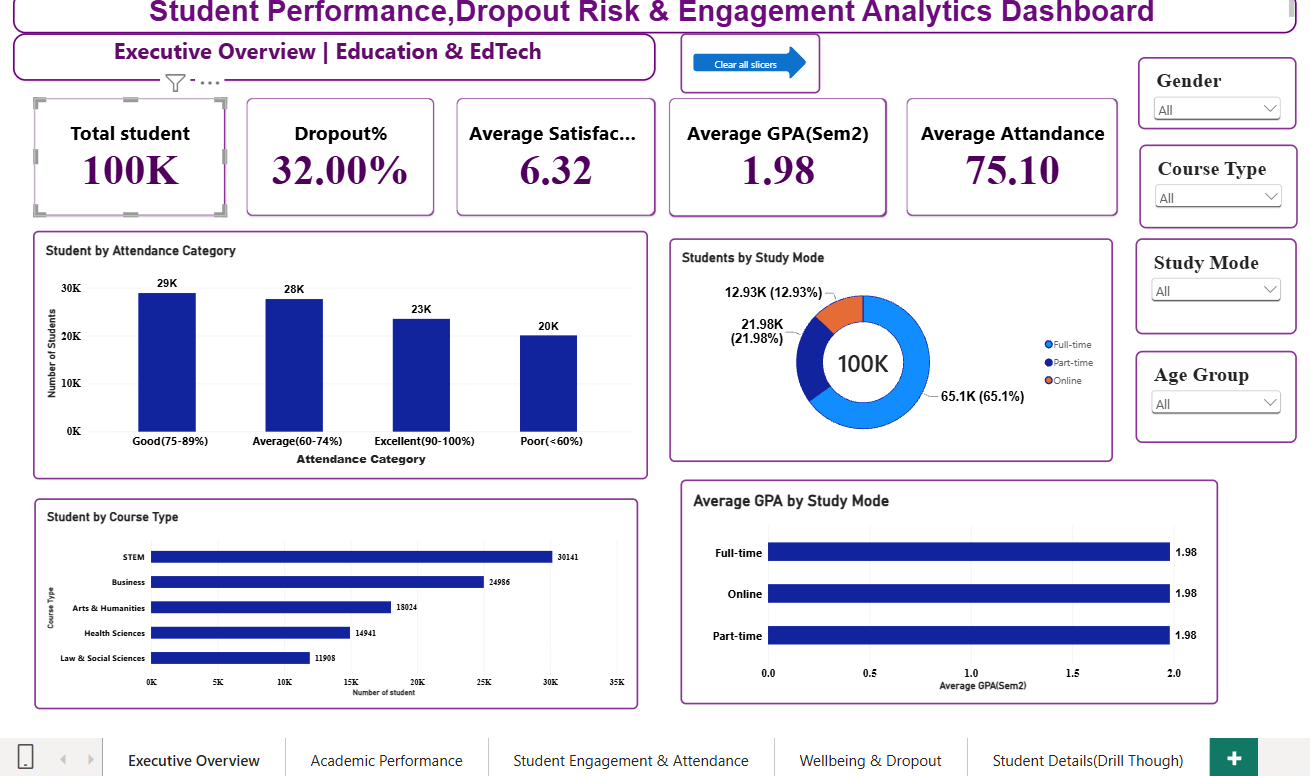

This screenshot's page, from the dashboard's own definition file:
{"tool":"powerbi","page":{"name":"Executive Overview","canvas":[1920,1080],"ordinal":0},"visuals":[{"type":"textbox","box":[36.2,0,1858.5,59.7],"z":0},{"type":"textbox","box":[36.2,59.7,930.2,68.8],"z":1000},{"type":"cardVisual","fields":{"Data":["student_dropout_risk_2026 (2).Total student"]},"box":[67,153.8,276.9,170.1],"z":2000},{"type":"cardVisual","fields":{"Data":["student_dropout_risk_2026 (2).Average GPA","student_dropout_risk_2026 (2).Average GPA"]},"box":[986.3,153.8,314.9,171.9],"z":3000},{"type":"cardVisual","fields":{"Data":["student_dropout_risk_2026 (2).Average Attandance"]},"box":[1330.1,153.8,305.8,170.1],"z":4000},{"type":"cardVisual","fields":{"Data":["student_dropout_risk_2026 (2).Dropout%"]},"box":[374.6,153.8,271.4,170.1],"z":5000},{"type":"cardVisual","fields":{"Data":["student_dropout_risk_2026 (2).Average Satisfaction"]},"box":[678.6,153.8,287.7,170.1],"z":6000},{"type":"clusteredBarChart","title":"Student by Course Type","fields":{"Category":["student_dropout_risk_2026 (2).course_type"],"Y":["student_dropout_risk_2026 (2).Total student"]},"box":[67,732.9,874.1,305.8],"z":8000},{"type":"clusteredColumnChart","title":"Student by Attendance Category","fields":{"Category":["student_dropout_risk_2026 (2).Attendance_Category"],"Y":["CountNonNull(student_dropout_risk_2026 (2).person_id)"]},"box":[65.1,345.6,890.4,360.1],"z":10000},{"type":"clusteredBarChart","title":"Average GPA by Study Mode","fields":{"Category":["student_dropout_risk_2026 (2).study_mode"],"Y":["student_dropout_risk_2026 (2).Average GPA"]},"box":[1002.6,705.8,778.2,325.7],"z":11000},{"type":"slicer","fields":{"Values":["student_dropout_risk_2026 (2).gender"]},"box":[1664.9,94.1,229.8,105],"z":12000},{"type":"slicer","fields":{"Values":["student_dropout_risk_2026 (2).course_type"]},"box":[1666.7,220.8,229.8,121.2],"z":13000},{"type":"slicer","fields":{"Values":["student_dropout_risk_2026 (2).study_mode"]},"box":[1661.3,356.5,233.4,139.3],"z":14000},{"type":"slicer","fields":{"Values":["student_dropout_risk_2026 (2).Age_Group"]},"box":[1661.3,519.4,233.4,133.9],"z":15000},{"type":"actionButton","box":[1002.6,59.7,202.7,86.9],"z":15001},{"type":"donutChart","title":" Students by Study Mode","fields":{"Category":["student_dropout_risk_2026 (2).study_mode"],"Y":["Count(student_dropout_risk_2026 (2).person_id)"]},"box":[986.3,356.5,642.4,323.9],"z":15002}]}

Visuals, with their boxes on the page's 1920x1080 design canvas (x1, y1, x2, y2). These are canvas units, not pixel positions in the 1310x776 screenshot, which may show the page scaled, cropped or inside an application window:
textbox: bbox=(36, 0, 1895, 60)
textbox: bbox=(36, 60, 966, 128)
cardVisual - student_dropout_risk_2026 (2).Total student: bbox=(67, 154, 344, 324)
cardVisual - student_dropout_risk_2026 (2).Average GPA x student_dropout_risk_2026 (2).Average GPA: bbox=(986, 154, 1301, 326)
cardVisual - student_dropout_risk_2026 (2).Average Attandance: bbox=(1330, 154, 1636, 324)
cardVisual - student_dropout_risk_2026 (2).Dropout%: bbox=(375, 154, 646, 324)
cardVisual - student_dropout_risk_2026 (2).Average Satisfaction: bbox=(679, 154, 966, 324)
"Student by Course Type" clusteredBarChart: bbox=(67, 733, 941, 1039)
"Student by Attendance Category" clusteredColumnChart: bbox=(65, 346, 956, 706)
"Average GPA by Study Mode" clusteredBarChart: bbox=(1003, 706, 1781, 1032)
slicer - student_dropout_risk_2026 (2).gender: bbox=(1665, 94, 1895, 199)
slicer - student_dropout_risk_2026 (2).course_type: bbox=(1667, 221, 1896, 342)
slicer - student_dropout_risk_2026 (2).study_mode: bbox=(1661, 356, 1895, 496)
slicer - student_dropout_risk_2026 (2).Age_Group: bbox=(1661, 519, 1895, 653)
actionButton: bbox=(1003, 60, 1205, 147)
" Students by Study Mode" donutChart: bbox=(986, 356, 1629, 680)
